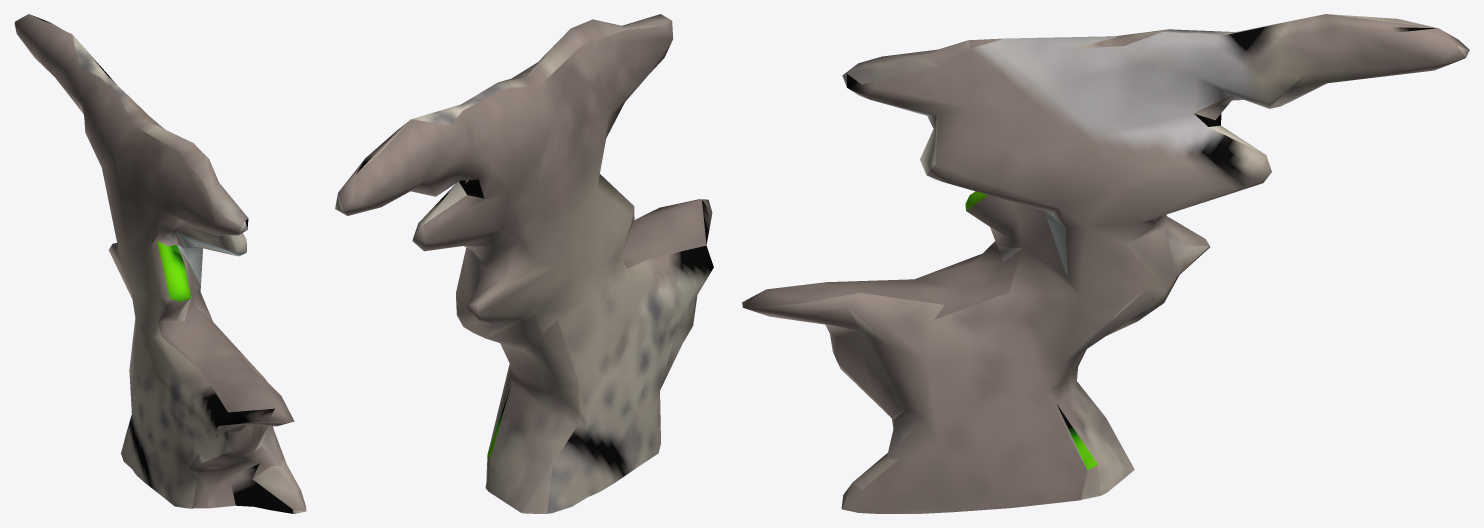
The model's file is Spiky-3.fbx.
3 views of the same model, side by side, from view 1: azimuth 30°, elevation 25°; view 2: azimuth 150°, elevation 25°; view 3: azimuth 270°, elevation 25° (orthographic). The views are drawn at different scales.
Parts seen in each view (by area): view 1: Spiky-3; view 2: Spiky-3; view 3: Spiky-3.
Part boxes in pixels (<box>): Spiky-3: <box>14,14,306,513</box>; Spiky-3: <box>335,14,713,513</box>; Spiky-3: <box>742,14,1469,513</box>.
Bounding box in the file's own units: 1.28 × 4.28 × 6.08.
